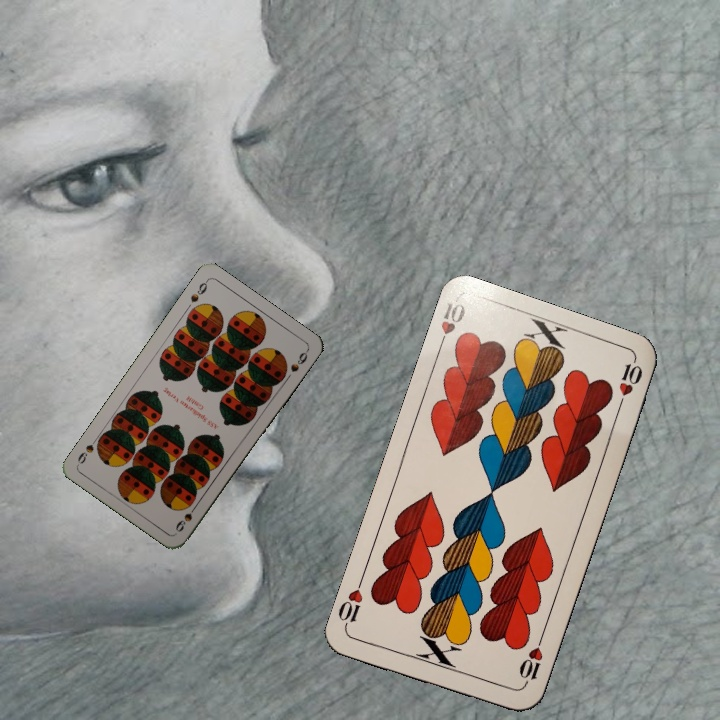H10: (432, 298, 468, 354), (515, 633, 546, 690)
S9: (171, 499, 201, 534), (186, 276, 210, 305)
